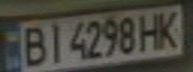2: (84, 16, 106, 61)
4: (66, 18, 87, 61)
8: (115, 12, 139, 55)
9: (100, 15, 124, 57)
B: (15, 22, 51, 69)
H: (136, 10, 166, 52)
I: (42, 20, 69, 65)
K: (154, 7, 187, 50)
